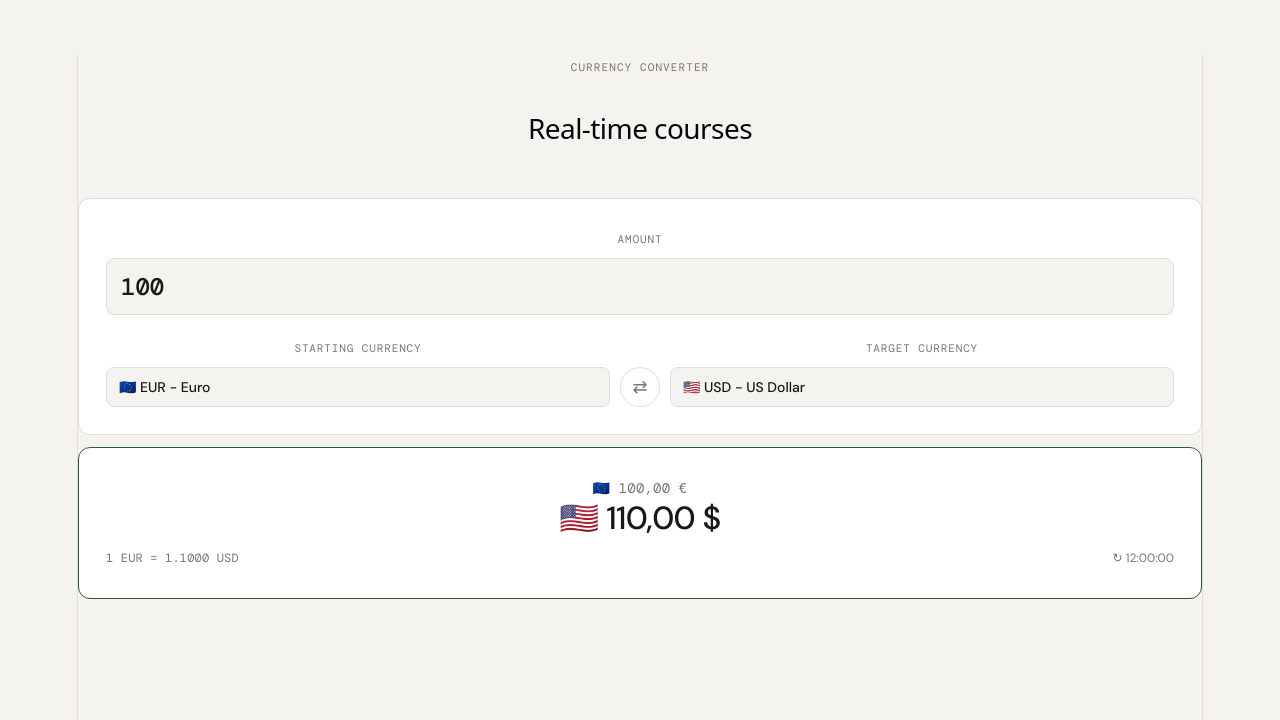
Test: App amount input › does not show the error while the field is empty
Clear the field labelled "Amount" at (640, 286), box left=106, top=258, right=1174, bottom=315
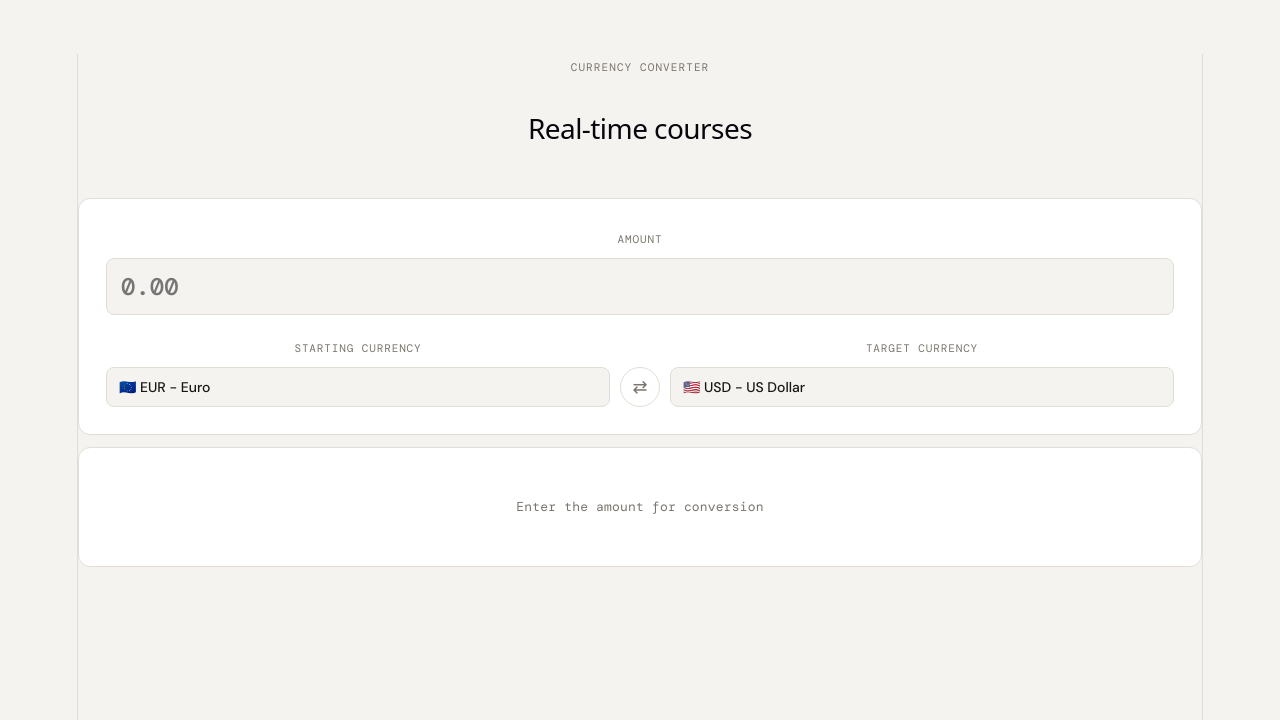
expect the text "Enter the amount for conversion" is shown: met, box left=516, top=498, right=764, bottom=515
